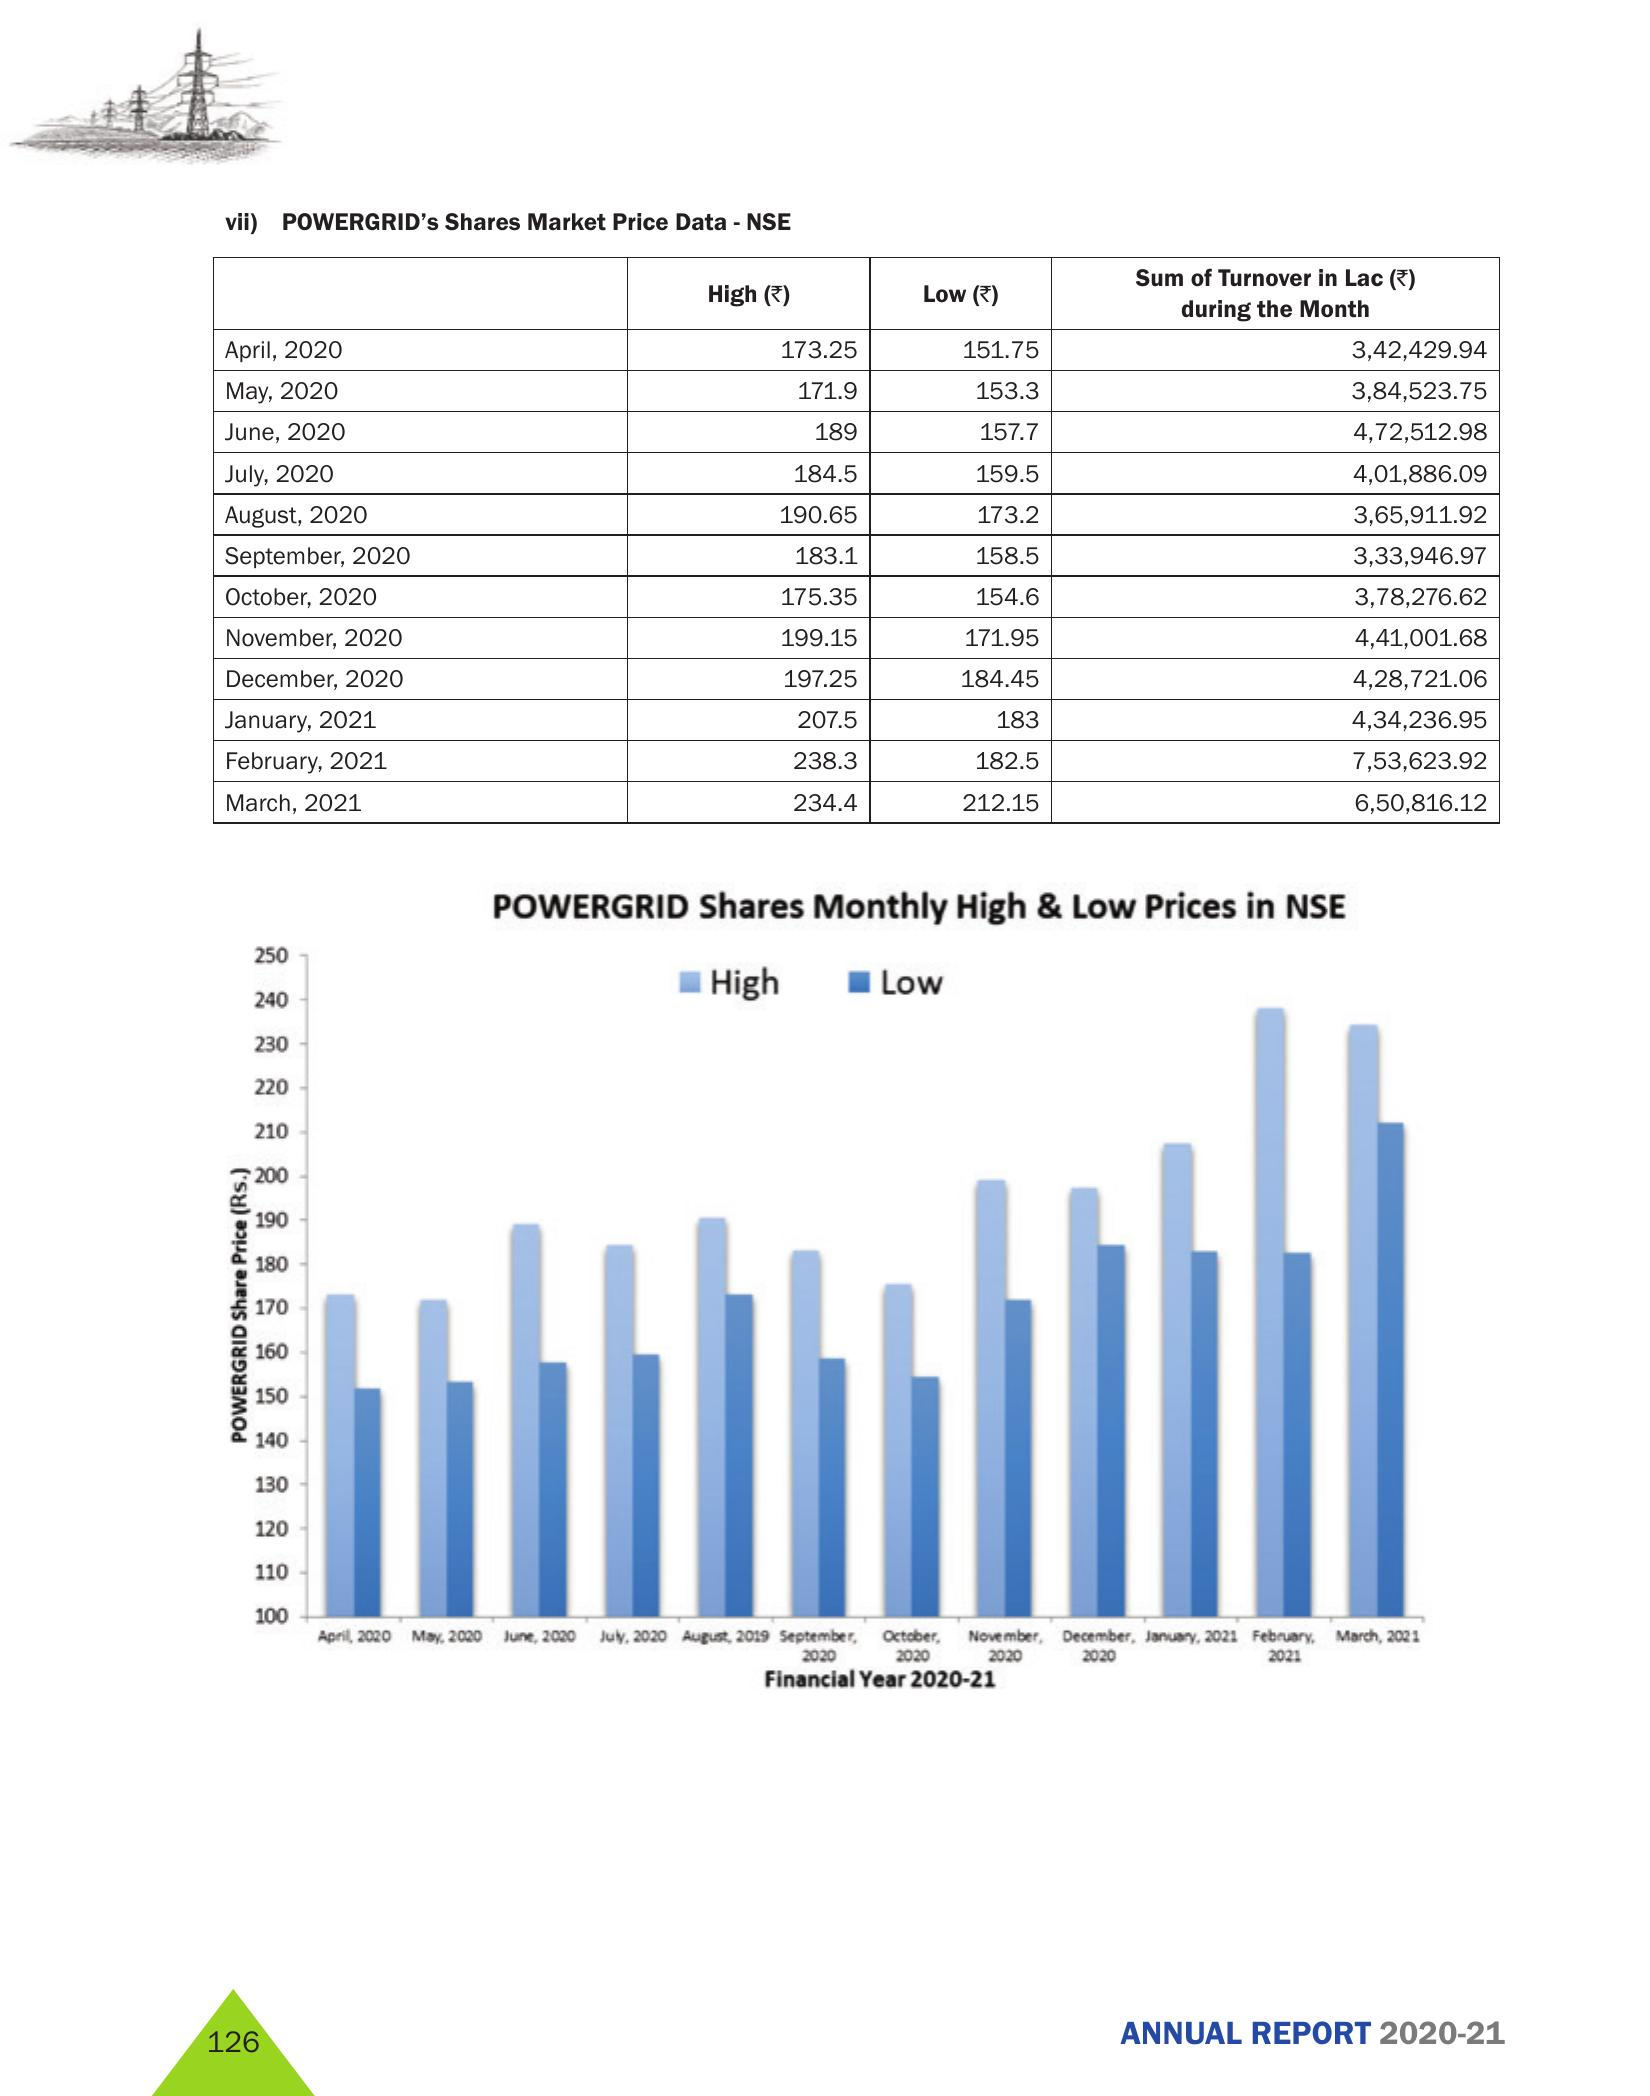Footer: (0, 1968, 1650, 2096)
Header: (0, 0, 1650, 184)
Image: (146, 878, 1504, 1705)
Table: (117, 245, 1551, 851)
